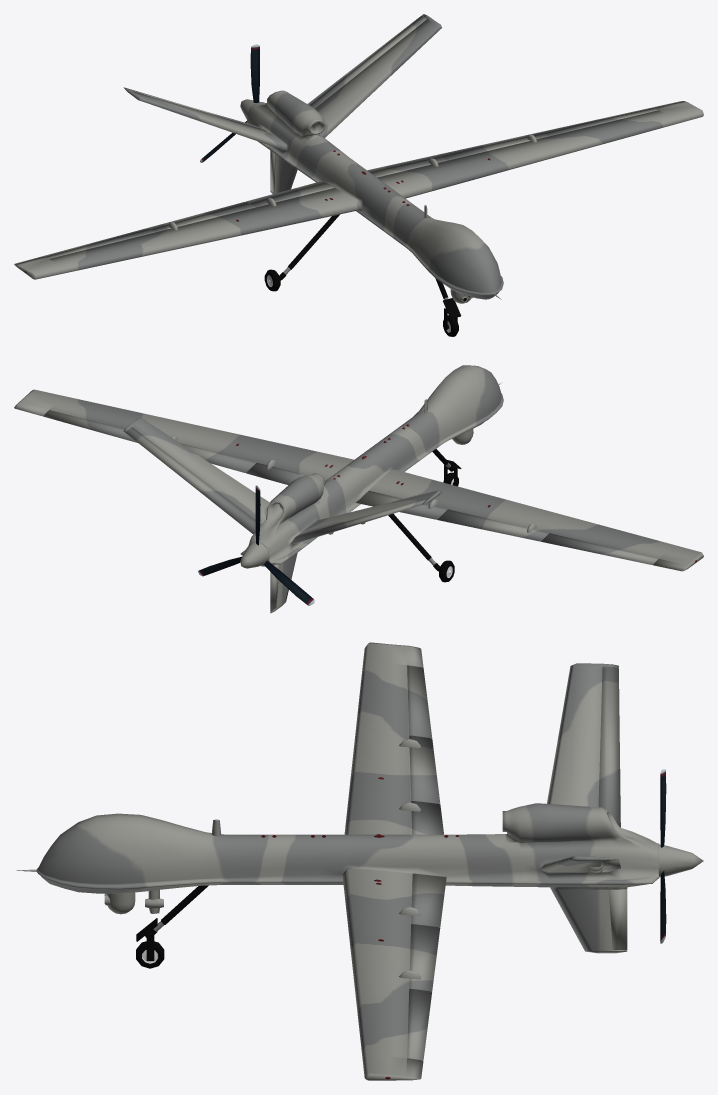
File: Predator_0910.fbx
The picture shows the model from 3 angles, top to bottom: view 1: azimuth 30°, elevation 25°; view 2: azimuth 150°, elevation 25°; view 3: azimuth 270°, elevation 25°; orthographic projection. The views are drawn at different scales.
Parts seen in each view (by area): view 1: objpolySurface115, objpolySurface114, objpolySurface26, objpolySurface113; view 2: objpolySurface115, objpolySurface26, objpolySurface114, objpCylinder3, objpolySurface113; view 3: objpolySurface115, objpCylinder3, objpolySurface114, objpolySurface26, objpolySurface112.
Boxes of the visible parts, <box> form: objpolySurface115: <box>14,14,703,299</box>; objpolySurface114: <box>279,214,461,330</box>; objpolySurface26: <box>200,44,259,162</box>; objpolySurface113: <box>264,269,458,336</box>; objpolySurface115: <box>14,365,703,613</box>; objpolySurface26: <box>198,485,314,605</box>; objpolySurface114: <box>388,449,461,571</box>; objpCylinder3: <box>240,542,269,568</box>; objpolySurface113: <box>439,472,458,582</box>; objpolySurface115: <box>36,642,658,1080</box>; objpCylinder3: <box>659,844,703,877</box>; objpolySurface114: <box>136,885,208,960</box>; objpolySurface26: <box>660,769,666,943</box>; objpolySurface112: <box>399,739,602,979</box>.
Size of the model in its own units: 58.84 by 13.2 by 39.65.
